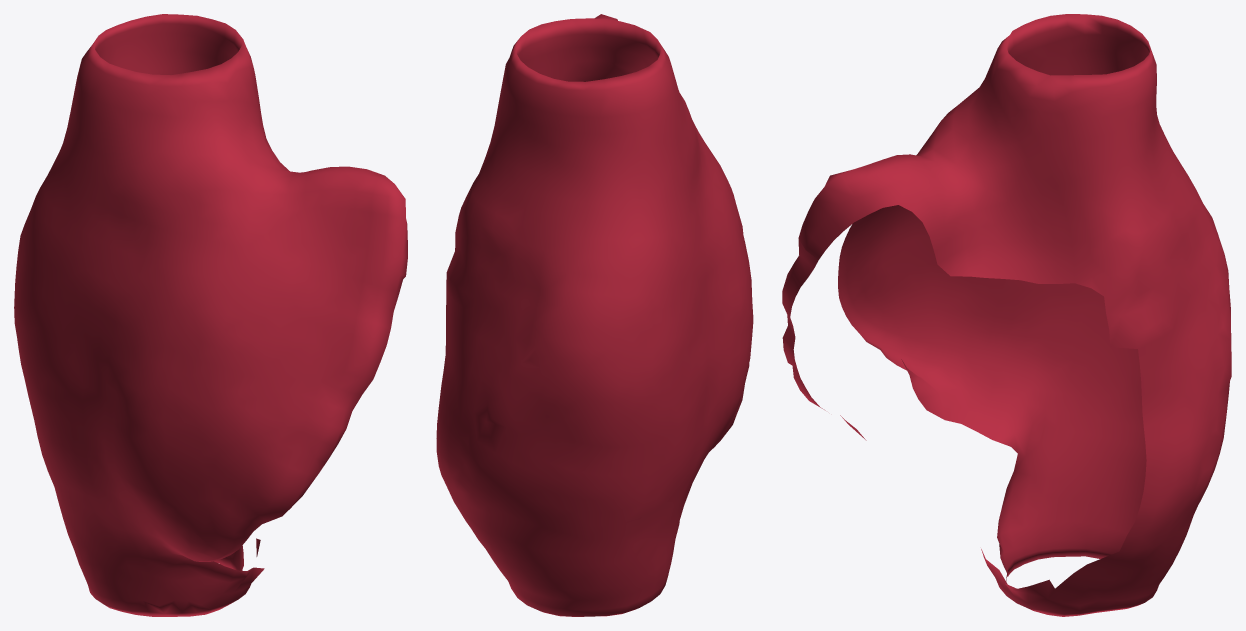
File: right-atrium.glb
3 renders of one model, left to right at view 1: azimuth 30°, elevation 25°; view 2: azimuth 150°, elevation 25°; view 3: azimuth 270°, elevation 25°, orthographic.
Parts seen in each view (by area): view 1: Right atrium; view 2: Right atrium; view 3: Right atrium.
Part boxes in pixels (box(x1,y1,x2,y2)): Right atrium: box(14, 14, 407, 616); Right atrium: box(436, 14, 753, 616); Right atrium: box(782, 14, 1231, 616).
Size of the model in its own units: 0.045 by 0.0997 by 0.0745.
